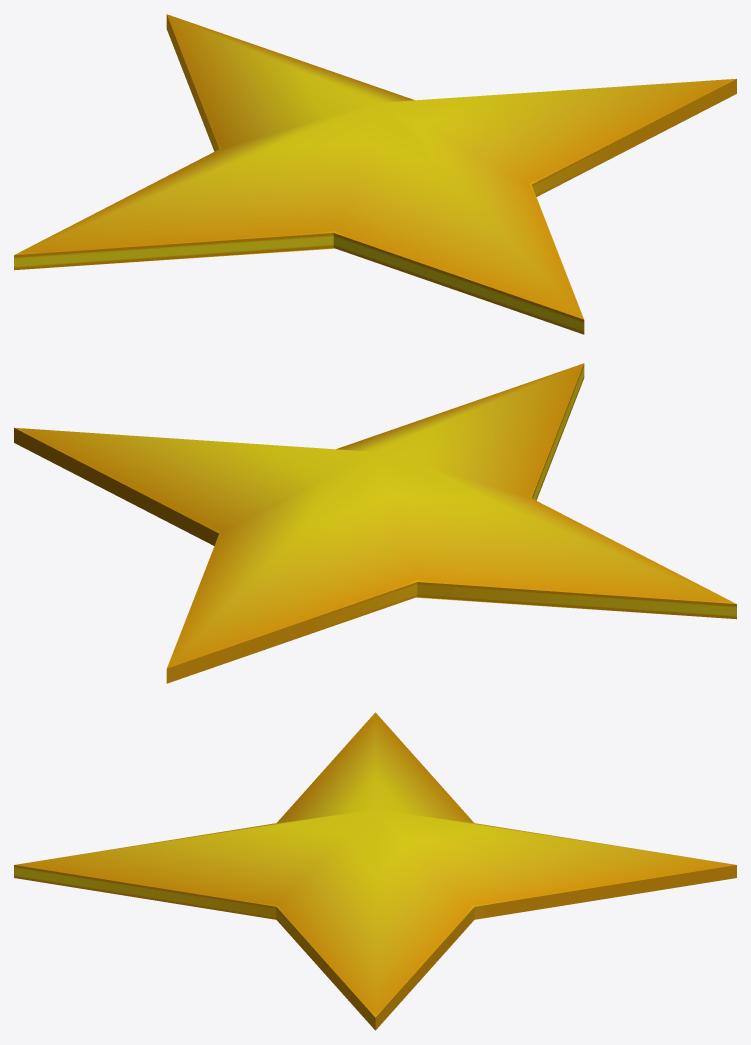
The model's file is 4star.glb.
The picture shows the model from 3 angles, top to bottom: view 1: azimuth 30°, elevation 25°; view 2: azimuth 150°, elevation 25°; view 3: azimuth 270°, elevation 25°; orthographic projection. The views are drawn at different scales.
Parts seen in each view (by area): view 1: pCylinder1; view 2: pCylinder1; view 3: pCylinder1.
Boxes of the visible parts, <box> form: pCylinder1: <box>14,14,736,334</box>; pCylinder1: <box>14,363,736,683</box>; pCylinder1: <box>14,712,736,1030</box>.
Size of the model in its own units: 2 by 0.3786 by 2.
Materials: 1 (1 with a texture image).
